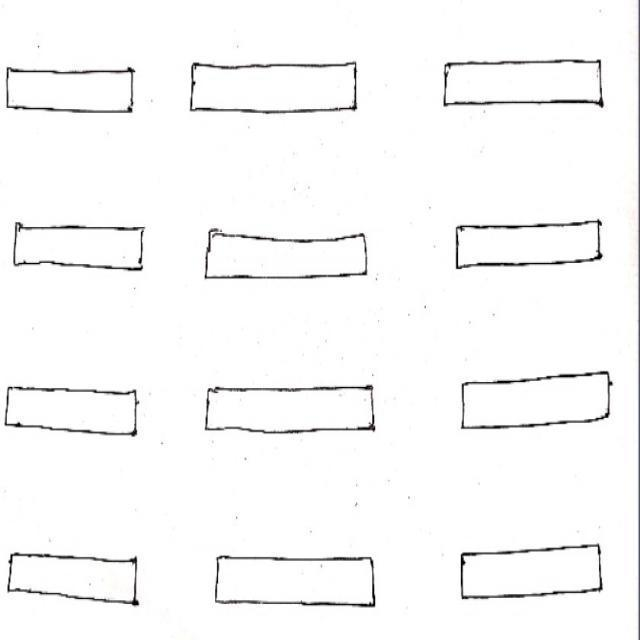textbox: (200, 548, 385, 620), (196, 372, 382, 442), (453, 536, 616, 615), (455, 369, 620, 444), (200, 223, 374, 289), (186, 57, 362, 122), (1, 374, 146, 447), (3, 545, 152, 614), (11, 217, 151, 281), (437, 58, 612, 109), (449, 218, 609, 273), (6, 61, 141, 122)
